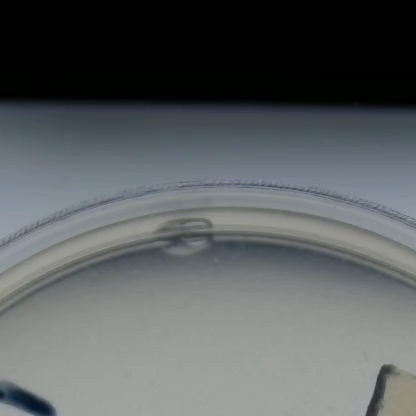worm: (354, 346, 372, 365)
